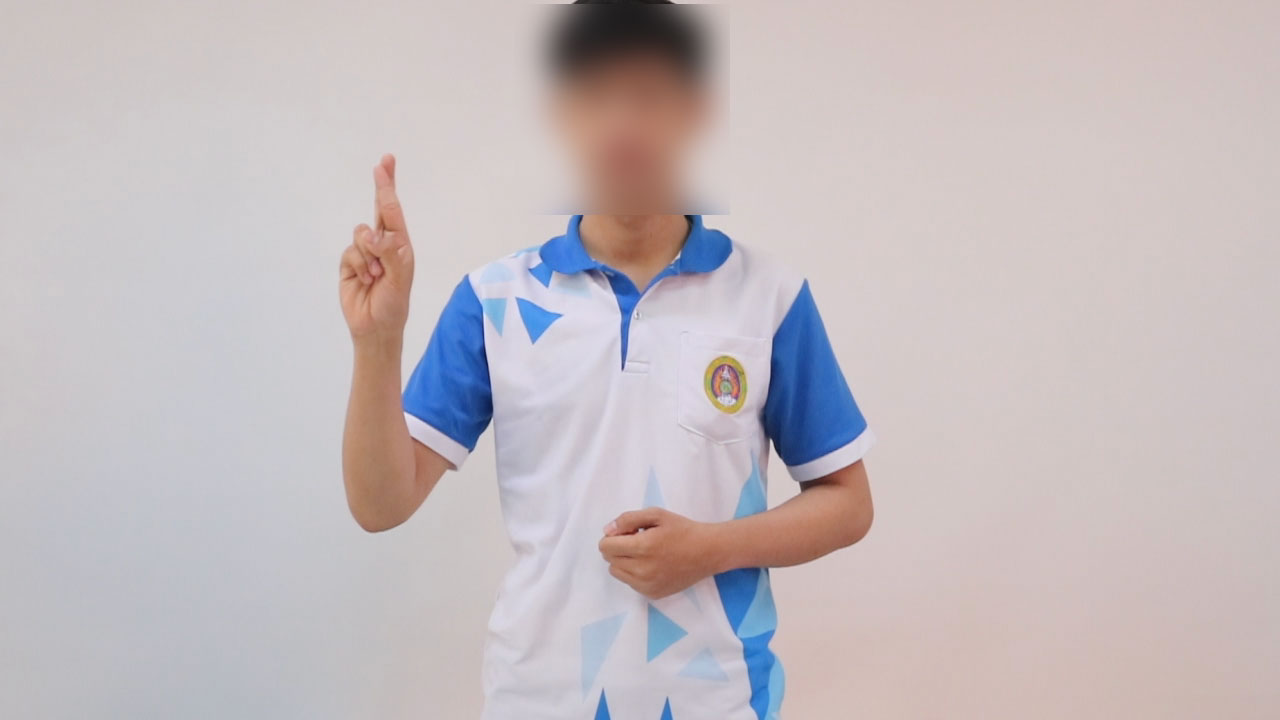rao: (313, 146, 433, 351)
